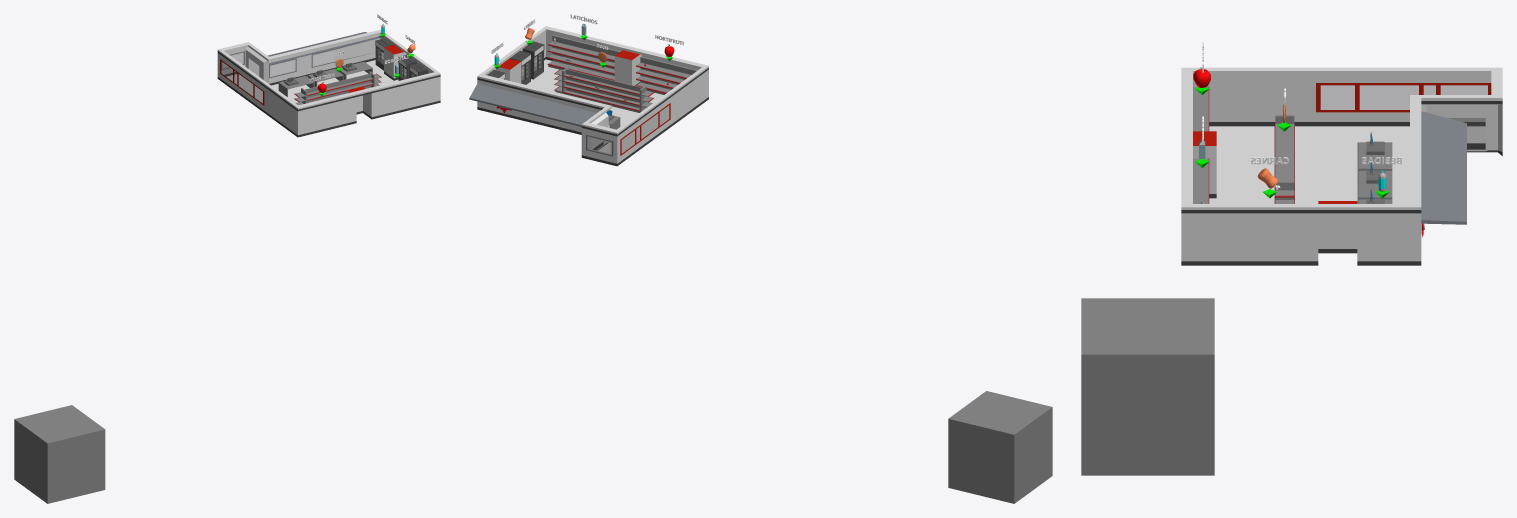
File: IC_Mercado.glb
3 renders of one model, left to right at view 1: azimuth 30°, elevation 25°; view 2: azimuth 150°, elevation 25°; view 3: azimuth 270°, elevation 25°, orthographic. The views are drawn at different scales.
Visible parts, largest first — view 1: mercado_IC:pasted__Cube.105, mercado_IC:pCube43, mercado_IC:pasted__Bodyframe; view 2: mercado_IC:pasted__Cube.105, mercado_IC:pCube43, mercado_IC:pasted__Bodyframe, mercado_IC:pasted__Bodyframe.010, mercado_IC:pasted__Bodyframe.009; view 3: mercado_IC:pasted__Cube.105, mercado_IC:pCube43, mercado_IC:pasted__Bodyframe, mercado_IC:polySurface16, mercado_IC:pasted__Bodyframe.010, mercado_IC:pasted__Bodyframe.009, mercado_IC:polySurface19.
Boxes of the visible parts, x1=… form: mercado_IC:pasted__Cube.105: x1=217, y1=29, x2=440, y2=137; mercado_IC:pCube43: x1=14, y1=405, x2=105, y2=503; mercado_IC:pasted__Bodyframe: x1=294, y1=71, x2=381, y2=105; mercado_IC:pasted__Cube.105: x1=469, y1=26, x2=708, y2=166; mercado_IC:pCube43: x1=948, y1=391, x2=1052, y2=503; mercado_IC:pasted__Bodyframe: x1=554, y1=67, x2=654, y2=112; mercado_IC:pasted__Bodyframe.010: x1=547, y1=35, x2=620, y2=80; mercado_IC:pasted__Bodyframe.009: x1=636, y1=56, x2=697, y2=94; mercado_IC:pasted__Cube.105: x1=1181, y1=67, x2=1502, y2=265; mercado_IC:pCube43: x1=1081, y1=298, x2=1214, y2=475; mercado_IC:pasted__Bodyframe: x1=1274, y1=115, x2=1294, y2=203; mercado_IC:polySurface16: x1=1357, y1=142, x2=1392, y2=170; mercado_IC:pasted__Bodyframe.010: x1=1193, y1=149, x2=1209, y2=203; mercado_IC:pasted__Bodyframe.009: x1=1193, y1=78, x2=1209, y2=131; mercado_IC:polySurface19: x1=1357, y1=170, x2=1392, y2=199.
Bounding box in the file's own units: 7.24 × 5.49 × 3.16.
